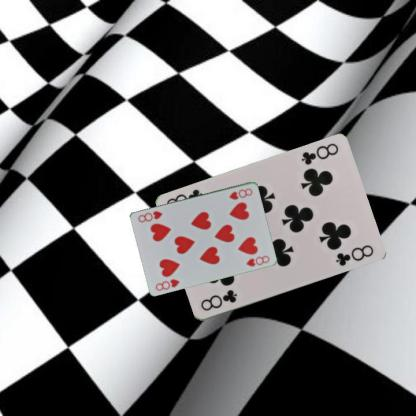8c: (298, 141, 340, 167), (198, 287, 238, 313)
8h: (153, 276, 181, 292), (226, 186, 254, 200)
